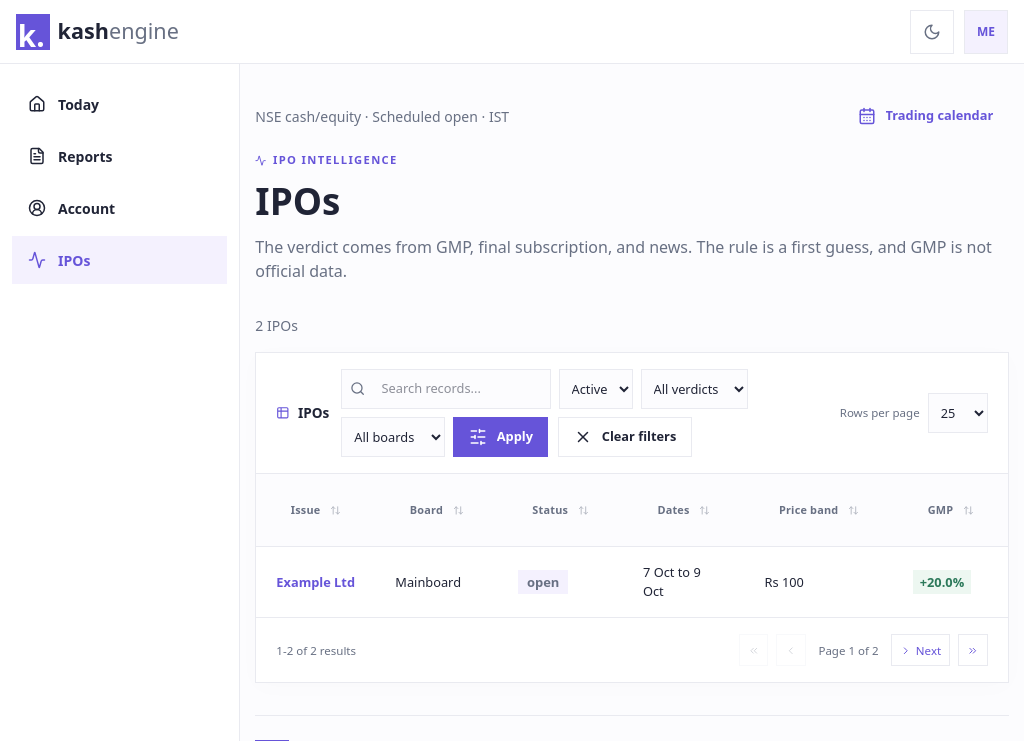
Scenario: navigates to saved facts and evidence without leaving React
Step 1. Click the link "Example Ltd" → (316, 582), box [276,572,355,590]
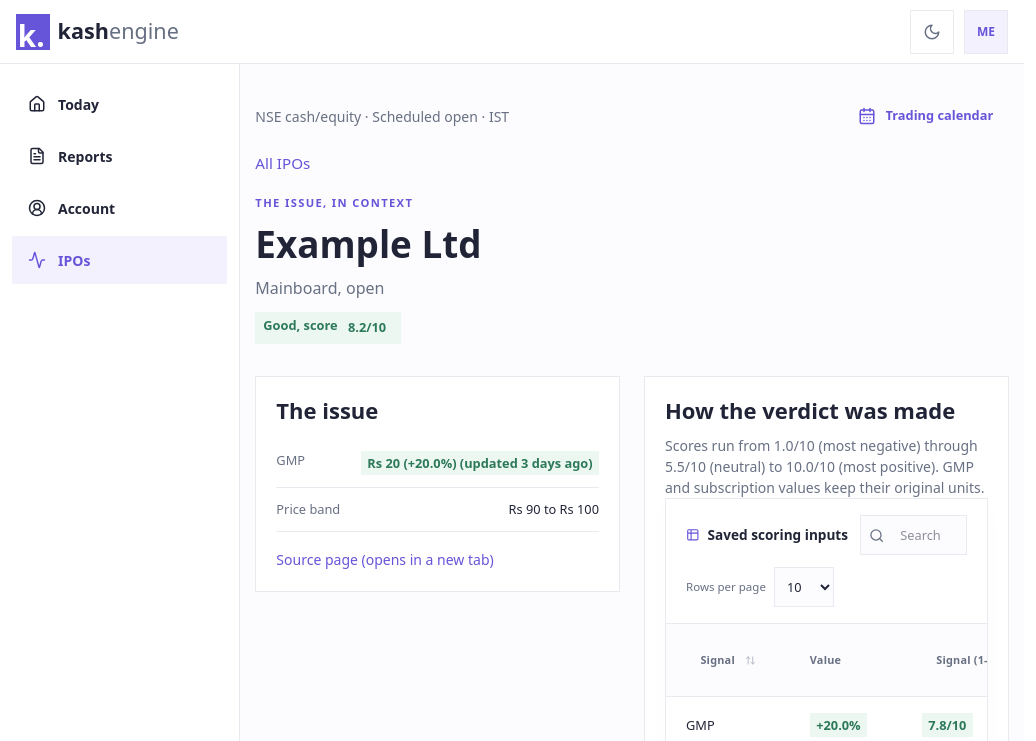
expect the heading "The issue" is shown: met, box [276,395,378,425]
expect the text "Good, score 8.2/10" is shown: met, box [255,312,401,344]
expect the table named "Saved scoring inputs" shows "7.8/10": met, box [928,716,966,734]
